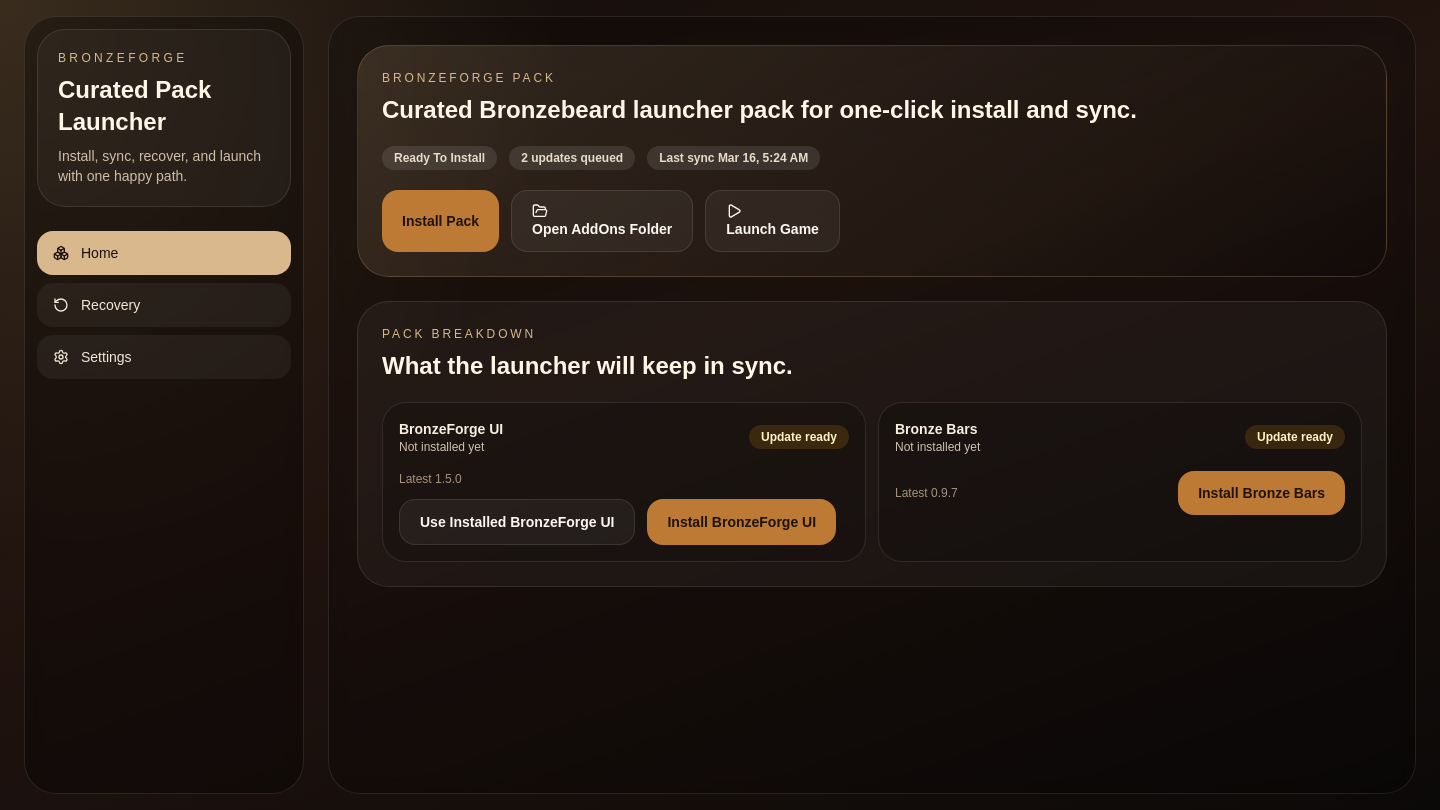
Test case: adopting an existing addon from AddOns marks that pack member installed
The width and height of the screenshot is (1440, 810).
Click the button "Use Installed BronzeForge UI" at [517, 522], box [399,499,636,545]
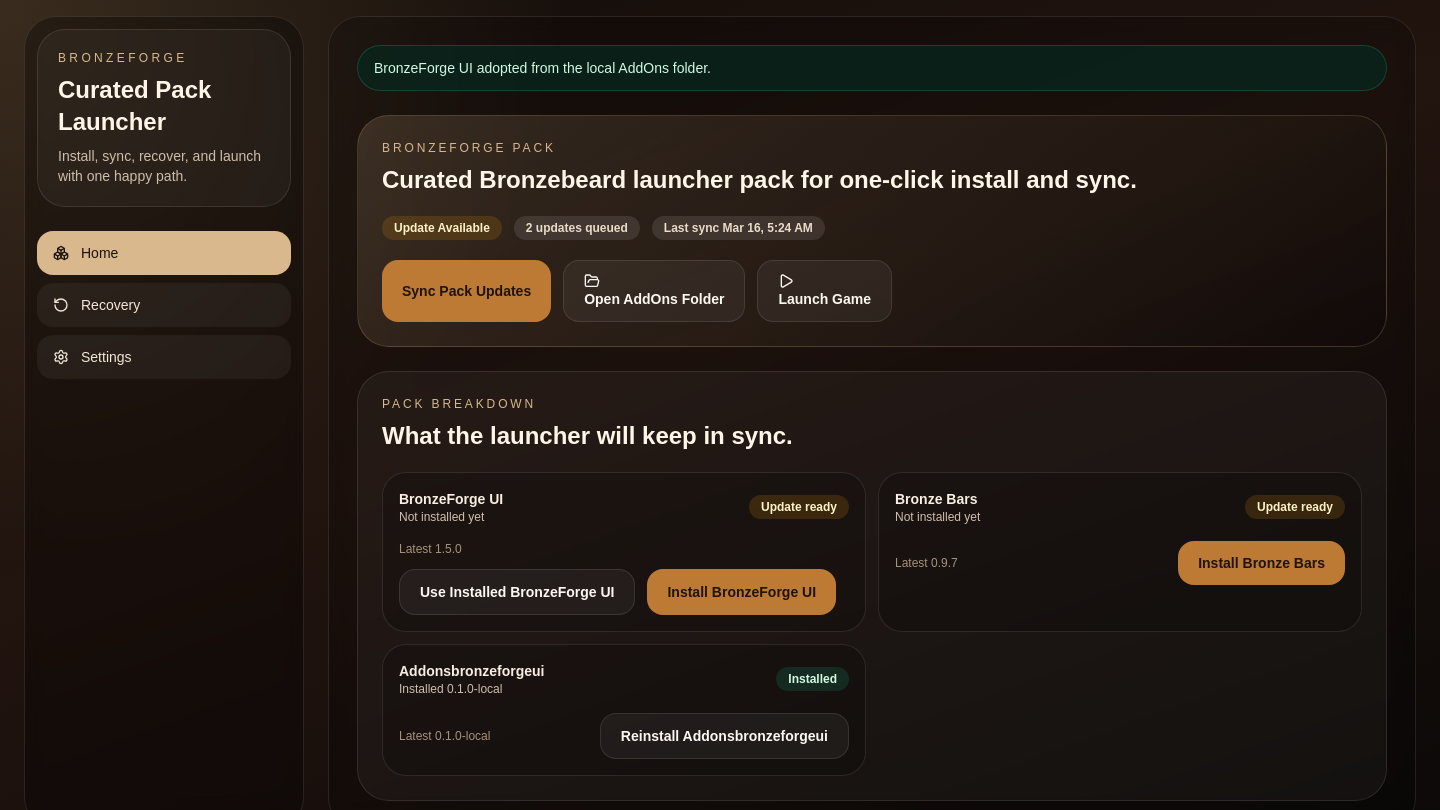
Expected: the button "Install Bronze Bars" is shown, [1178,541,1345,585]
Result: the text "BronzeForge UI adopted from the local AddOns folder." is shown at [357,45,1387,91]
